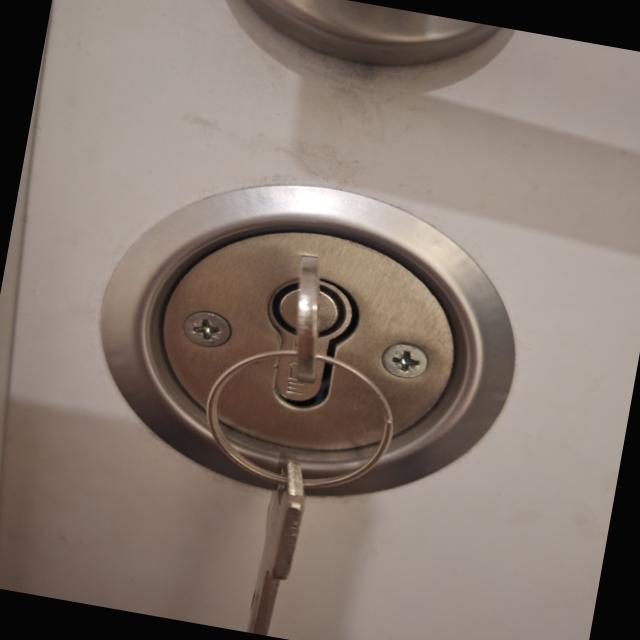Phillips: (378, 342, 431, 384), (178, 307, 232, 348)
